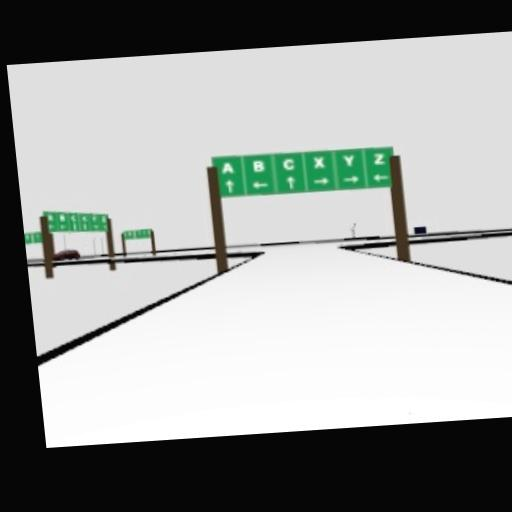A: (220, 161, 234, 173)
B: (252, 159, 264, 171), (58, 213, 65, 220)
C: (281, 157, 295, 169)
Left: (371, 172, 388, 181), (250, 179, 269, 187)
Right: (342, 173, 359, 183), (311, 176, 328, 185)
Straight: (286, 174, 295, 188), (225, 178, 234, 192)
X: (313, 155, 325, 167)
Y: (343, 153, 355, 165)
Z: (46, 210, 62, 232), (72, 209, 86, 223), (373, 151, 385, 163), (79, 213, 88, 229), (82, 210, 94, 221), (62, 210, 73, 222), (70, 213, 77, 228), (69, 210, 80, 219), (91, 218, 100, 228), (44, 209, 55, 216), (47, 220, 54, 231), (100, 212, 106, 223), (95, 212, 105, 218), (46, 212, 53, 218)
